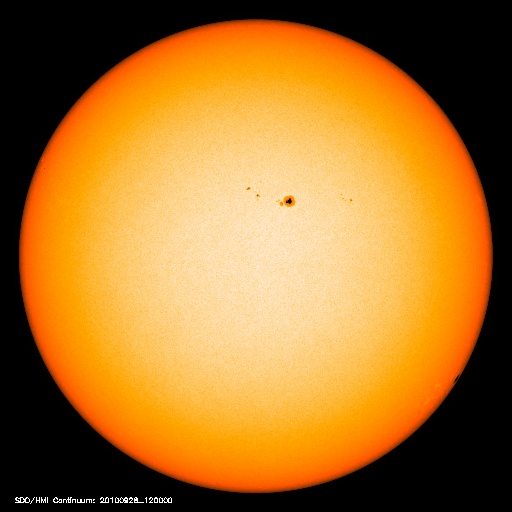sunspot: (239, 178, 307, 212), (337, 188, 364, 210), (447, 366, 468, 392)
